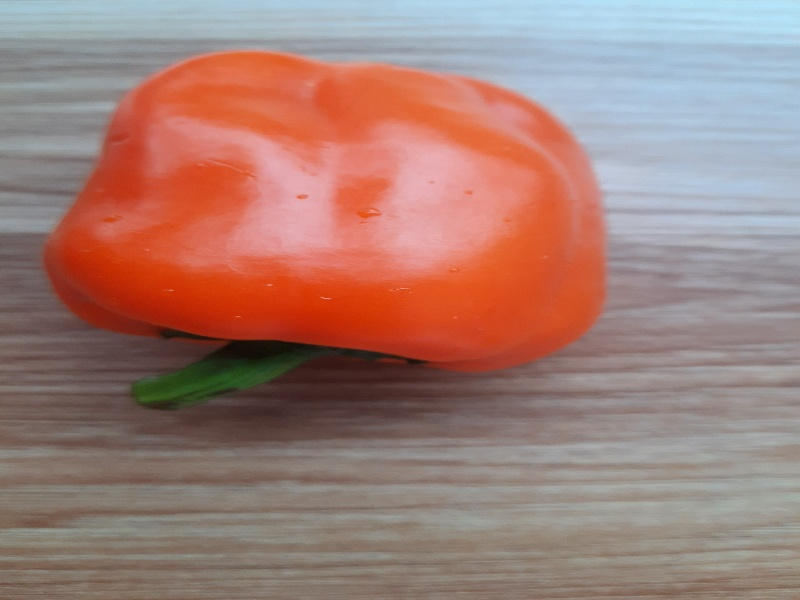vege: (41, 36, 619, 420)
